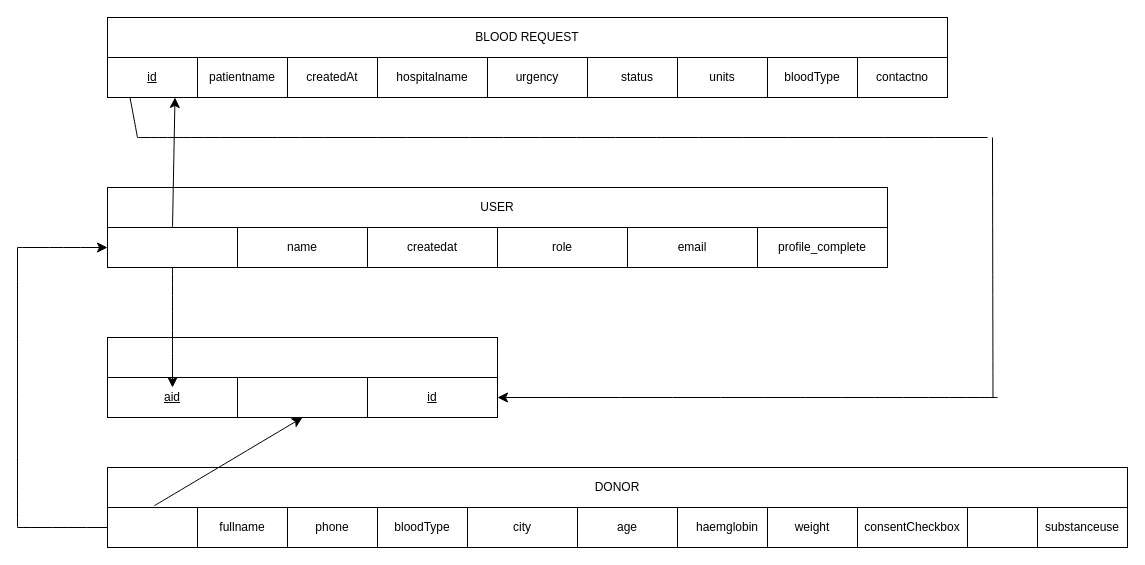
Image size: 1145x565. Some labels were removed from this diagram. The shapes that lost their labels are listed below. From the top down, each one's centre as x and y in pixels, then its label:
point (172, 247): uid
point (302, 357): ADMIN
point (302, 397): dnorid
point (152, 527): donorid
point (1002, 527): lastDate
